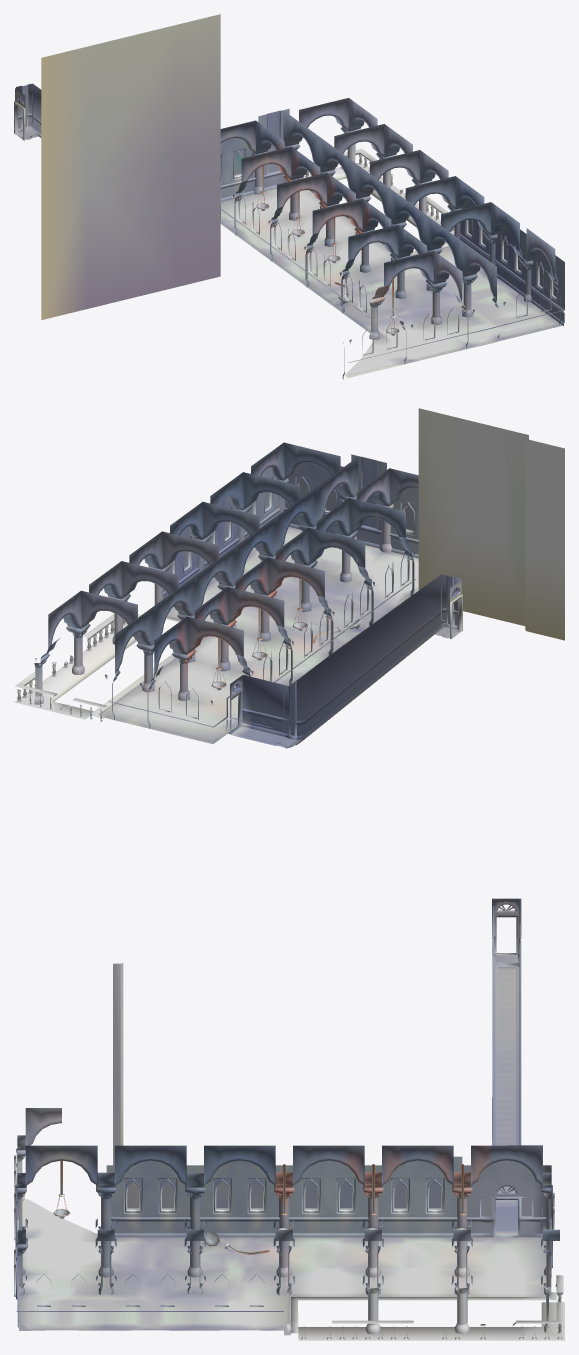
Rendered from 01Opening.gltf.
3 renders of one model, top to bottom at view 1: azimuth 30°, elevation 25°; view 2: azimuth 150°, elevation 25°; view 3: azimuth 270°, elevation 25°, orthographic. The views are drawn at different scales.
Visible parts, largest first — view 1: stg010_o04_Mesh_0001, stg010_o04_Mesh_0000, stg010_o04_Mesh_0013, stg010_o04_Mesh_0002, stg010_o04_Mesh_0004, stg010_o04_Mesh_0008, stg010_o04_Mesh_0014, stg010_o04_Mesh_0012, stg010_o04_Mesh_0005, stg010_o04_Mesh_0007, stg010_o04_Mesh_0006, stg010_o04_Mesh_0010 (+2 smaller); view 2: stg010_o04_Mesh_0001, stg010_o04_Mesh_0000, stg010_o04_Mesh_0002, stg010_o04_Mesh_0013, stg010_o04_Mesh_0008, stg010_o04_Mesh_0004, stg010_o04_Mesh_0014, stg010_o04_Mesh_0012, stg010_o04_Mesh_0005, stg010_o04_Mesh_0006, stg010_o04_Mesh_0007, stg010_o04_Mesh_0010 (+2 smaller); view 3: stg010_o04_Mesh_0013, stg010_o04_Mesh_0002, stg010_o04_Mesh_0008, stg010_o04_Mesh_0000, stg010_o04_Mesh_0012, stg010_o04_Mesh_0014, stg010_o04_Mesh_0004, stg010_o04_Mesh_0005, stg010_o04_Mesh_0006, stg010_o05_Mesh_0011, stg010_p04_Mesh_0001, stg010_o04_Mesh_0007 (+4 smaller).
Boxes of the visible parts, <box> form: stg010_o04_Mesh_0001: <box>41,14,220,319</box>; stg010_o04_Mesh_0000: <box>220,98,555,297</box>; stg010_o04_Mesh_0013: <box>220,188,562,377</box>; stg010_o04_Mesh_0002: <box>14,85,564,379</box>; stg010_o04_Mesh_0004: <box>220,113,557,322</box>; stg010_o04_Mesh_0008: <box>15,83,564,309</box>; stg010_o04_Mesh_0014: <box>235,213,433,342</box>; stg010_o04_Mesh_0012: <box>226,149,557,345</box>; stg010_o04_Mesh_0005: <box>234,143,560,371</box>; stg010_o04_Mesh_0007: <box>220,150,557,355</box>; stg010_o04_Mesh_0006: <box>18,117,564,322</box>; stg010_o04_Mesh_0010: <box>23,85,279,173</box>; stg010_o04_Mesh_0001: <box>418,408,564,640</box>; stg010_o04_Mesh_0000: <box>48,442,418,707</box>; stg010_o04_Mesh_0002: <box>14,457,462,747</box>; stg010_o04_Mesh_0013: <box>101,527,418,744</box>; stg010_o04_Mesh_0008: <box>163,454,461,721</box>; stg010_o04_Mesh_0004: <box>41,460,418,681</box>; stg010_o04_Mesh_0014: <box>187,574,412,721</box>; stg010_o04_Mesh_0012: <box>176,475,418,748</box>; stg010_o04_Mesh_0005: <box>35,496,414,720</box>; stg010_o04_Mesh_0006: <box>163,513,458,735</box>; stg010_o04_Mesh_0007: <box>158,477,414,719</box>; stg010_o04_Mesh_0010: <box>290,457,451,735</box>; stg010_o04_Mesh_0013: <box>19,1199,549,1335</box>; stg010_o04_Mesh_0002: <box>15,903,564,1340</box>; stg010_o04_Mesh_0008: <box>16,898,551,1242</box>; stg010_o04_Mesh_0000: <box>25,1108,563,1334</box>; stg010_o04_Mesh_0012: <box>69,967,519,1269</box>; stg010_o04_Mesh_0014: <box>77,1244,490,1266</box>; stg010_o04_Mesh_0004: <box>17,1121,559,1244</box>; stg010_o04_Mesh_0005: <box>17,1160,551,1324</box>; stg010_o04_Mesh_0006: <box>111,1222,546,1233</box>; stg010_o05_Mesh_0011: <box>497,967,515,1206</box>; stg010_p04_Mesh_0001: <box>127,1181,441,1208</box>; stg010_o04_Mesh_0007: <box>14,1153,554,1306</box>.
Bounding box in the file's own units: 102 × 70 × 106.
